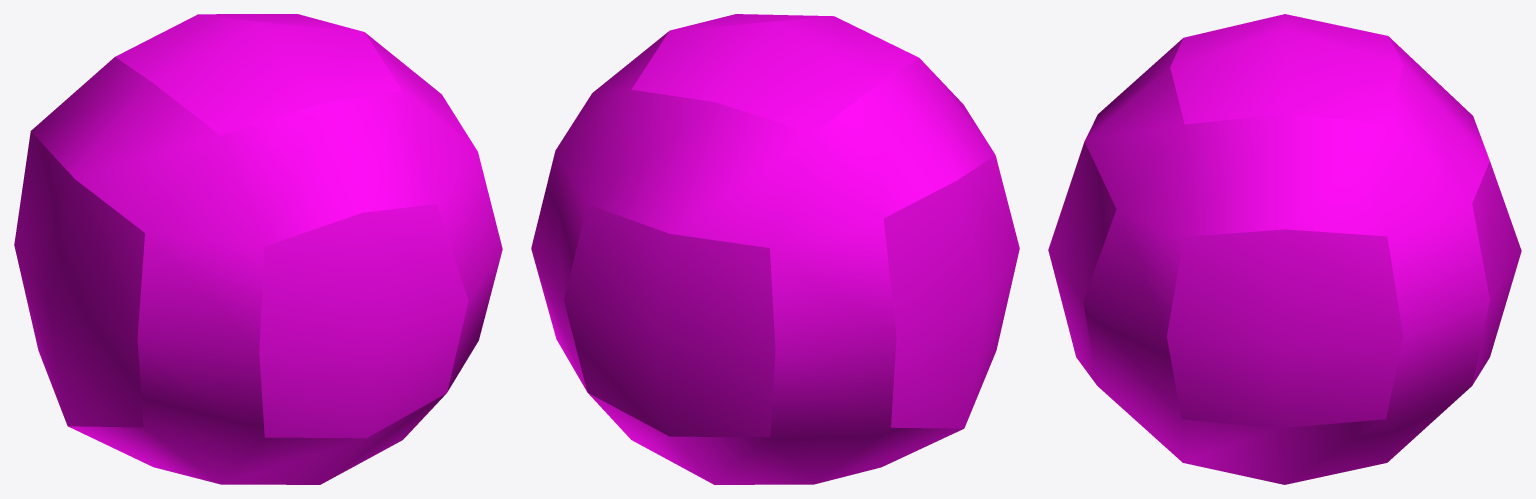
The model's file is snowball.fbx.
3 renders of one model, left to right at view 1: azimuth 30°, elevation 25°; view 2: azimuth 150°, elevation 25°; view 3: azimuth 270°, elevation 25°, orthographic. The views are drawn at different scales.
Visible parts, largest first — view 1: snowball; view 2: snowball; view 3: snowball.
Part boxes in pixels (bbox=[...]): snowball: bbox=[14, 14, 502, 484]; snowball: bbox=[531, 14, 1019, 484]; snowball: bbox=[1048, 14, 1521, 484].
Size of the model in its own units: 12.01 by 12.15 by 12.01.
